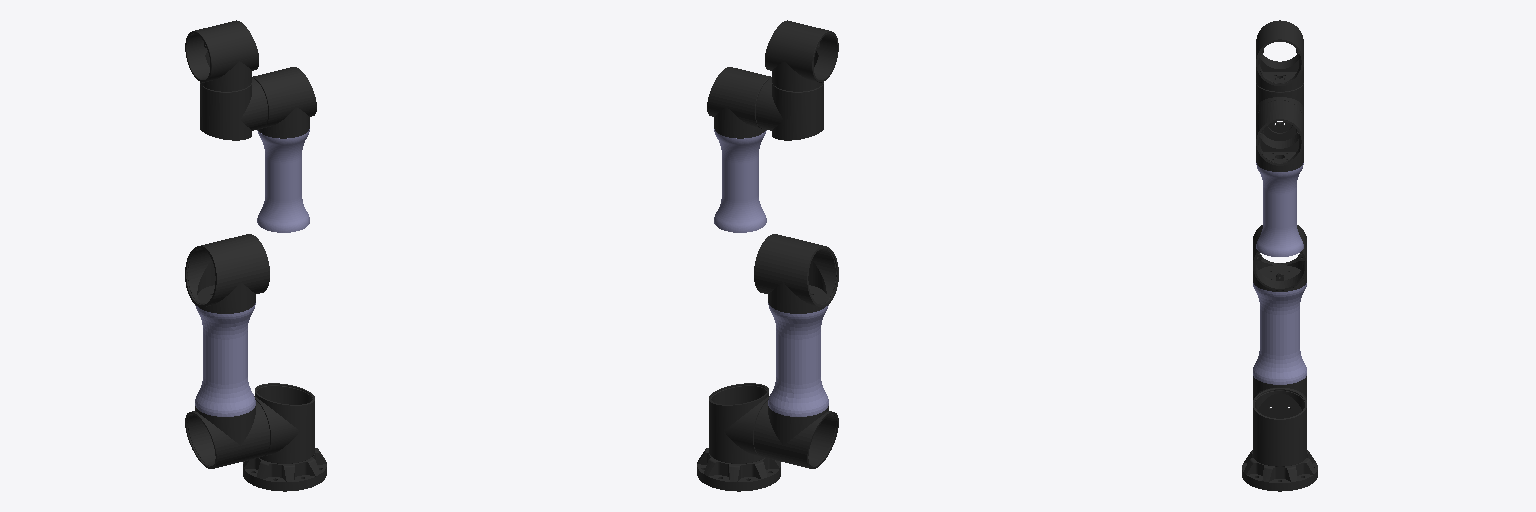
robot.urdf — unnamed:
<robot name="unnamed" version="1.0">
  <joint name="joint1" type="revolute">
    <limit lower="-3.14000" upper="3.14000" effort="0.48000" velocity="0.66000"/>
    <origin rpy="0.00000 0.00000 0.00000" xyz="0.00000 0.00000 0.00000"/>
    <parent link="Robotic_Collaborative_Robot_Arm_EB-052_link"/>
    <child link="Robotic_Collaborative_Robot_Arm_EB-108_link"/>
    <axis xyz="0.00000 0.00000 1.00000"/>
  </joint>
  <joint name="joint2" type="revolute">
    <limit lower="-3.14000" upper="3.14000" effort="0.48000" velocity="0.66000"/>
    <origin rpy="0.00000 0.00000 0.00000" xyz="0.00000 0.00000 0.00000"/>
    <parent link="Robotic_Collaborative_Robot_Arm_EB-108_link"/>
    <child link="new_link"/>
    <axis xyz="0.00000 0.00000 1.00000"/>
  </joint>
  <link name="Robotic_Collaborative_Robot_Arm_EB-052_link">
    <visual name="Robotic_Collaborative_Robot_Arm_EB-052">
      <origin rpy="0.00000 0.00000 0.00000" xyz="0.00000 0.00000 0.00000"/>
      <material name="mat_0"/>
      <geometry>
        <mesh filename="package://my_package/meshes/stl/Robotic_Collaborative_Robot_Arm_EB-052.stl" scale="1.00000 1.00000 1.00000"/>
      </geometry>
    </visual>
  </link>
  <link name="Robotic_Collaborative_Robot_Arm_EB-108_link">
    <visual name="Robotic_Collaborative_Robot_Arm_EB-108">
      <origin rpy="0.00000 0.00000 0.00000" xyz="0.00000 -0.00090 0.07360"/>
      <material name="mat_0"/>
      <geometry>
        <mesh filename="package://my_package/meshes/stl/Robotic_Collaborative_Robot_Arm_EB-108.stl" scale="1.00000 1.00000 1.00000"/>
      </geometry>
    </visual>
  </link>
  <link name="new_link">
    <visual name="Robotic_Collaborative_Robot_Arm_EB-018">
      <origin rpy="-0.00000 0.00000 0.00000" xyz="-0.08611 -0.00101 0.18954"/>
      <material name="mat_1"/>
      <geometry>
        <mesh filename="package://my_package/meshes/stl/Robotic_Collaborative_Robot_Arm_EB-018.stl" scale="1.00000 1.00000 1.00000"/>
      </geometry>
    </visual>
    <visual name="Robotic_Collaborative_Robot_Arm_EB-086">
      <origin rpy="-0.00000 0.00000 0.00000" xyz="-0.00211 -0.00100 0.41297"/>
      <material name="mat_1"/>
      <geometry>
        <mesh filename="package://my_package/meshes/stl/Robotic_Collaborative_Robot_Arm_EB-086.stl" scale="1.00000 1.00000 1.00000"/>
      </geometry>
    </visual>
    <visual name="Robotic_Collaborative_Robot_Arm_EB-111">
      <origin rpy="-0.00000 0.00000 0.00000" xyz="0.00000 0.00000 0.52092"/>
      <material name="mat_0"/>
      <geometry>
        <mesh filename="package://my_package/meshes/stl/Robotic_Collaborative_Robot_Arm_EB-111.stl" scale="1.00000 1.00000 1.00000"/>
      </geometry>
    </visual>
    <visual name="Robotic_Collaborative_Robot_Arm_EB-112">
      <origin rpy="-0.00000 0.00000 -0.00000" xyz="-0.08538 -0.00100 0.07360"/>
      <material name="mat_0"/>
      <geometry>
        <mesh filename="package://my_package/meshes/stl/Robotic_Collaborative_Robot_Arm_EB-112.stl" scale="1.00000 1.00000 1.00000"/>
      </geometry>
    </visual>
    <visual name="Robotic_Collaborative_Robot_Arm_EB-146">
      <origin rpy="-0.00000 0.00000 0.00000" xyz="-0.08538 -0.00100 0.29993"/>
      <material name="mat_0"/>
      <geometry>
        <mesh filename="package://my_package/meshes/stl/Robotic_Collaborative_Robot_Arm_EB-146.stl" scale="1.00000 1.00000 1.00000"/>
      </geometry>
    </visual>
    <visual name="Robotic_Collaborative_Robot_Arm_EB-147">
      <origin rpy="-0.00000 0.00000 0.00000" xyz="-0.08513 -0.00100 0.60393"/>
      <material name="mat_0"/>
      <geometry>
        <mesh filename="package://my_package/meshes/stl/Robotic_Collaborative_Robot_Arm_EB-147.stl" scale="1.00000 1.00000 1.00000"/>
      </geometry>
    </visual>
    <visual name="Robotic_Collaborative_Robot_Arm_EB-15">
      <origin rpy="-0.00000 0.00000 0.00000" xyz="0.00524 0.00231 0.29029"/>
      <material name="mat_0"/>
      <geometry>
        <mesh filename="package://my_package/meshes/stl/Robotic_Collaborative_Robot_Arm_EB-15.stl" scale="1.00000 1.00000 1.00000"/>
      </geometry>
    </visual>
    <visual name="Robotic_Collaborative_Robot_Arm_EB-156">
      <origin rpy="-0.00000 0.00000 0.00000" xyz="-0.08513 -0.00103 0.52092"/>
      <material name="mat_0"/>
      <geometry>
        <mesh filename="package://my_package/meshes/stl/Robotic_Collaborative_Robot_Arm_EB-156.stl" scale="1.00000 1.00000 1.00000"/>
      </geometry>
    </visual>
  </link>
  <material name="mat_0">
    <color rgba="0.21569 0.21569 0.21569 1.00000"/>
  </material>
  <material name="mat_1">
    <color rgba="0.57647 0.57647 0.71373 1.00000"/>
  </material>
</robot>

--- Facts derived from the render (not from the file) ---
Views: 3 orthographic renders of the robot side by side, from view 1: azimuth 30°, elevation 25°; view 2: azimuth 150°, elevation 25°; view 3: azimuth 270°, elevation 25°.
Model unnamed with 3 links and 2 joints (2 revolute), rooted at Robotic_Collaborative_Robot_Arm_EB-052_link, posed every joint at zero.
Links seen in each view (by area): view 1: new_link, Robotic_Collaborative_Robot_Arm_EB-108_link, Robotic_Collaborative_Robot_Arm_EB-052_link; view 2: new_link, Robotic_Collaborative_Robot_Arm_EB-108_link, Robotic_Collaborative_Robot_Arm_EB-052_link; view 3: new_link, Robotic_Collaborative_Robot_Arm_EB-108_link, Robotic_Collaborative_Robot_Arm_EB-052_link.
Link boxes in pixels (bbox=[...]): new_link: bbox=[185, 20, 316, 468]; Robotic_Collaborative_Robot_Arm_EB-108_link: bbox=[254, 383, 314, 463]; Robotic_Collaborative_Robot_Arm_EB-052_link: bbox=[243, 448, 326, 491]; new_link: bbox=[707, 20, 838, 468]; Robotic_Collaborative_Robot_Arm_EB-108_link: bbox=[709, 383, 769, 463]; Robotic_Collaborative_Robot_Arm_EB-052_link: bbox=[697, 448, 780, 491]; new_link: bbox=[1253, 20, 1306, 399]; Robotic_Collaborative_Robot_Arm_EB-108_link: bbox=[1253, 388, 1306, 466]; Robotic_Collaborative_Robot_Arm_EB-052_link: bbox=[1242, 450, 1317, 491].
Size in the robot's own frame: 0.1804 by 0.105 by 0.637 metres.
9 mesh visuals loaded from 10 distinct referenced files (9 binary STL); not drawn: 1 (reference not matched to a file when rendering).